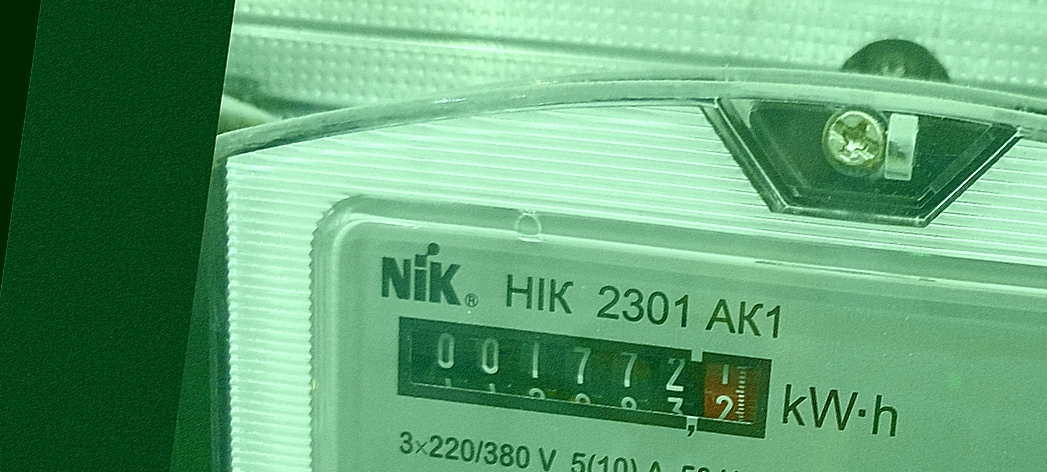0: (428, 325, 461, 369), (475, 331, 503, 373)
1: (524, 337, 545, 377), (716, 359, 732, 386)
2: (661, 353, 688, 392), (708, 389, 735, 420)
3: (662, 391, 687, 415)
7: (566, 341, 594, 385), (612, 346, 639, 387)
screen: (375, 293, 793, 457)
